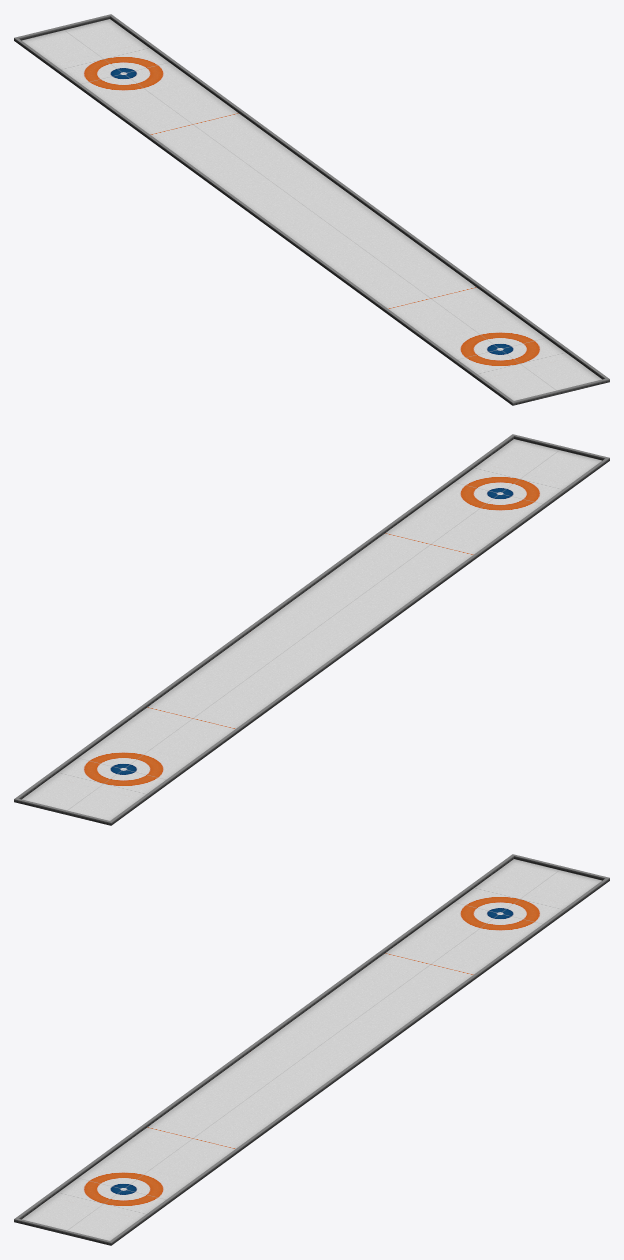
The model's file is Sheet.fbx.
3 renders of one model, top to bottom at view 1: azimuth 30°, elevation 25°; view 2: azimuth 150°, elevation 25°; view 3: azimuth 330°, elevation 25°, orthographic.
Visible parts, largest first — view 1: Sheets; view 2: Sheets; view 3: Sheets.
Boxes of the visible parts, x1,y1,x2,y2 form: Sheets: (14, 14, 609, 405); Sheets: (14, 434, 609, 825); Sheets: (14, 854, 609, 1245).
Size of the model in its own units: 17 by 0.5 by 151.
